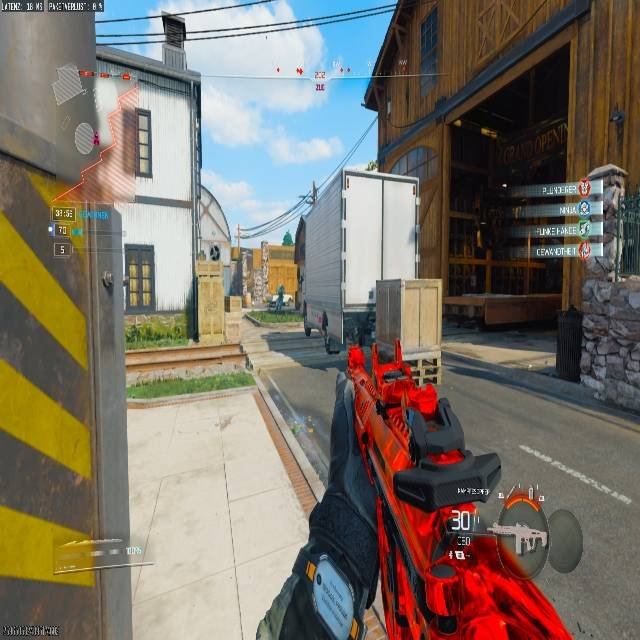player: (274, 284, 286, 311)
